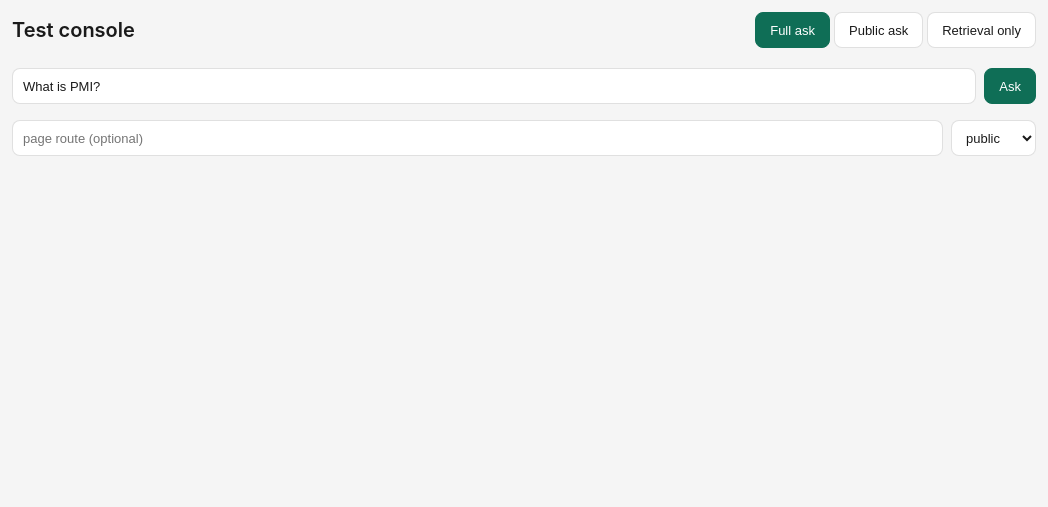
TestConsole › renders public clarify responses and shows the effective origin as read-only
Step 1. Click the button "Public ask" → coordinates (879, 30), box left=834, top=12, right=923, bottom=48
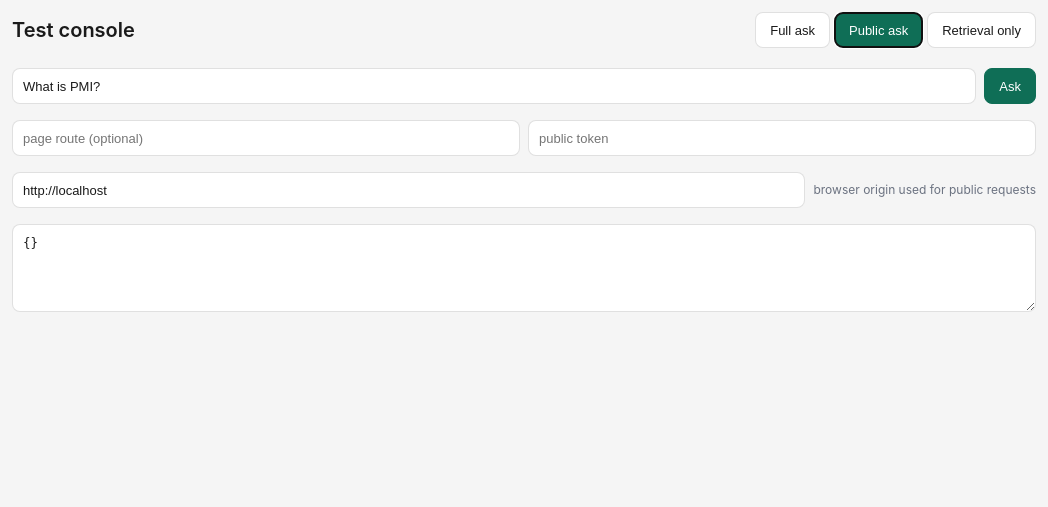
Step 2. Type "pub_test_token" into the field with placeholder "public token" → coordinates (782, 138), box left=528, top=120, right=1036, bottom=156
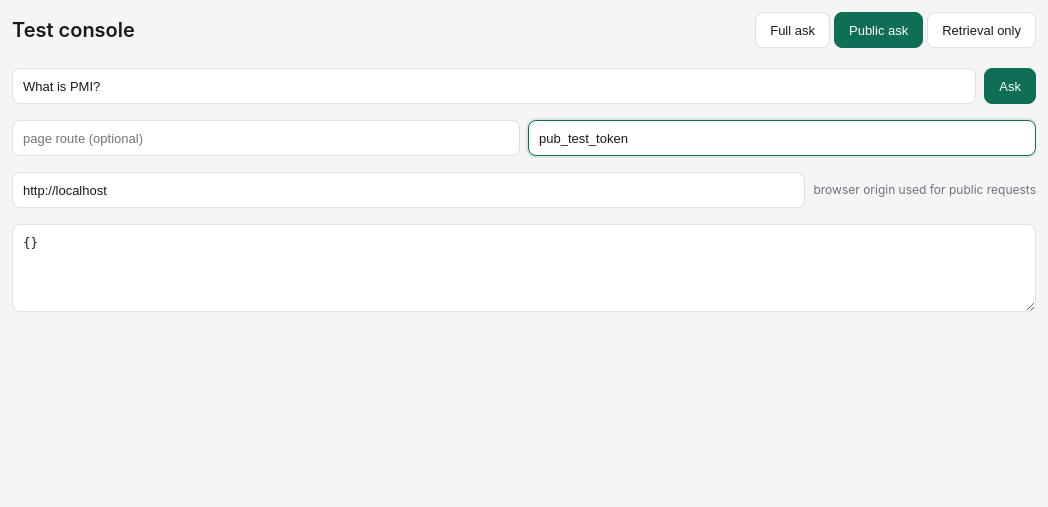
Step 3. Click the button "Ask" → coordinates (1010, 86), box left=984, top=68, right=1036, bottom=104
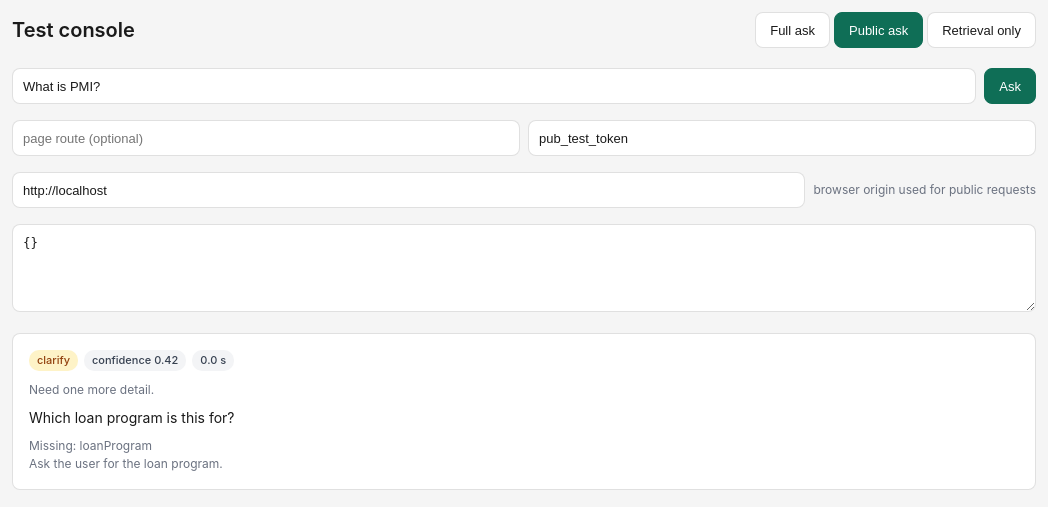
Expected: the text "Which loan program is this for?" is shown, left=29, top=408, right=234, bottom=426
Expected: the text "Missing: loanProgram" is shown, left=29, top=438, right=152, bottom=453
